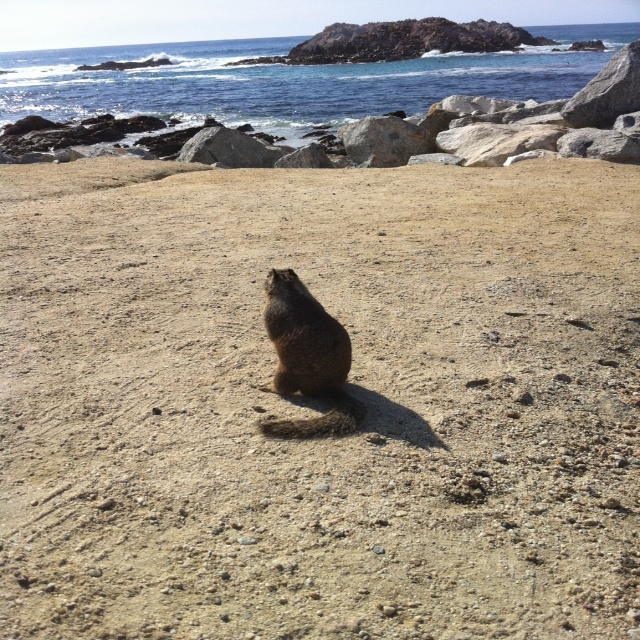Sea lion: (257, 264, 358, 440)
